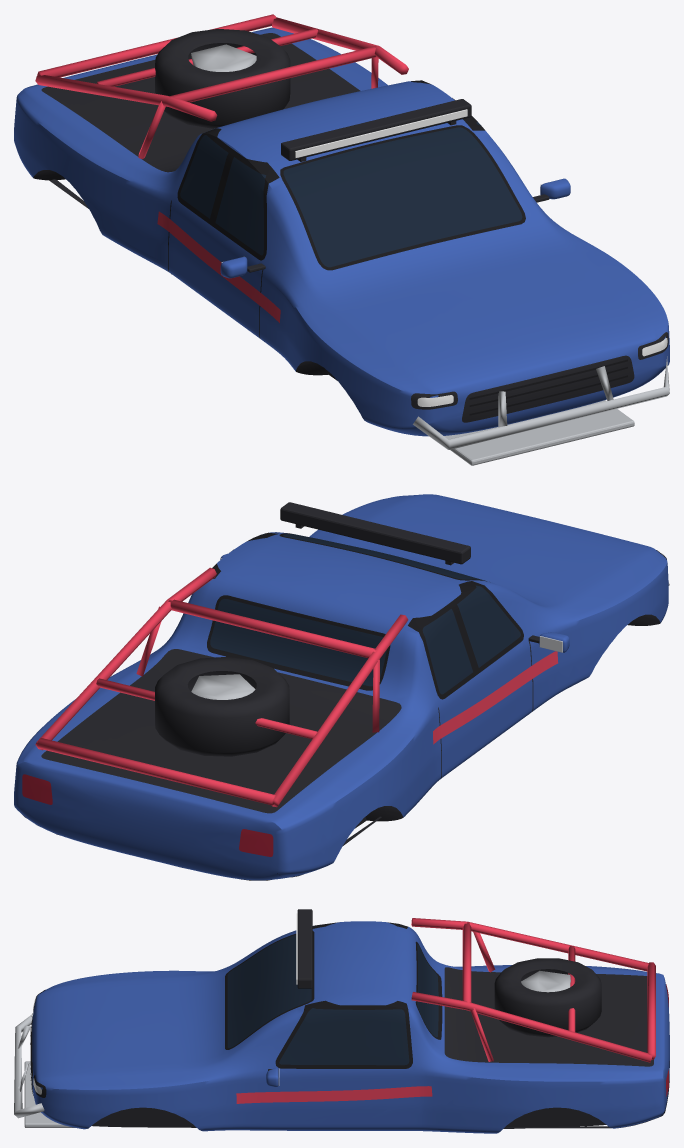
File: dune.glb
3 views of the same model, one above another, from view 1: azimuth 30°, elevation 25°; view 2: azimuth 150°, elevation 25°; view 3: azimuth 270°, elevation 25° (orthographic). The views are drawn at different scales.
Parts seen in each view (by area): view 1: body; view 2: body; view 3: body.
Part boxes in pixels (x1,y1,x2,y2): body: (14, 14, 669, 465); body: (14, 494, 669, 880); body: (14, 909, 669, 1133).
Bounding box in the file's own units: 2.54 × 1.35 × 5.26.
